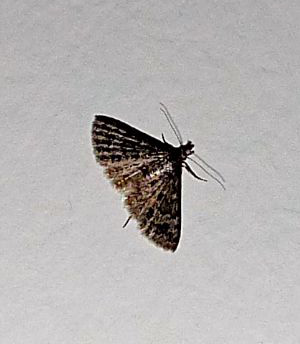Alucitidae: (87, 98, 224, 252)
moth: (89, 100, 226, 254)
